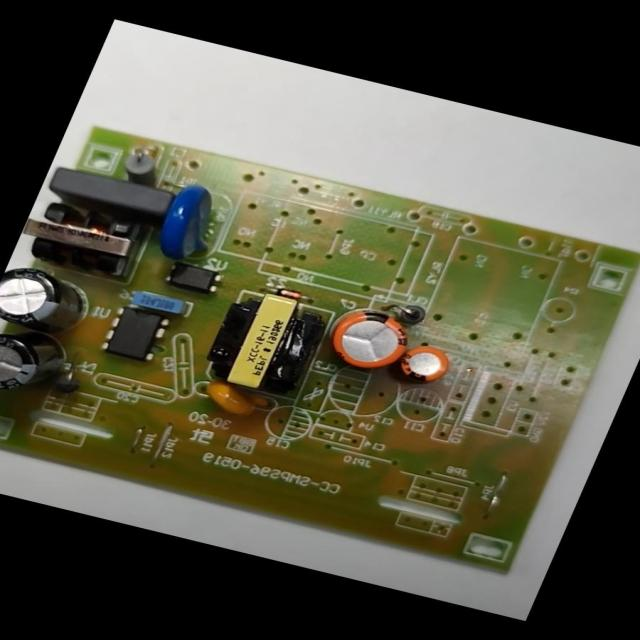Cap1: (316, 297, 424, 380)
Cap2: (384, 336, 462, 394)
Cap3: (0, 258, 107, 345)
Cap4: (0, 319, 88, 408)
MOSFET: (93, 299, 177, 370)
Mov: (139, 176, 242, 274)
Resistor: (109, 144, 175, 191)
Transformer: (190, 280, 342, 406), (10, 192, 159, 288)
